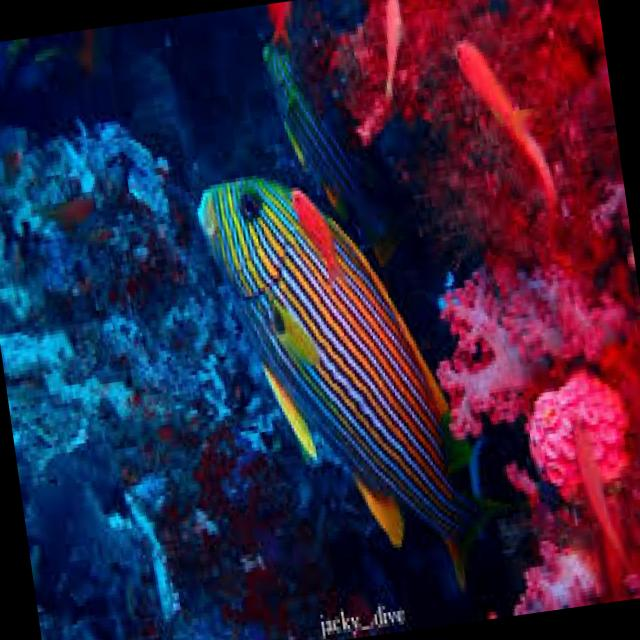RibbonedSweetlips: (192, 146, 529, 620)
